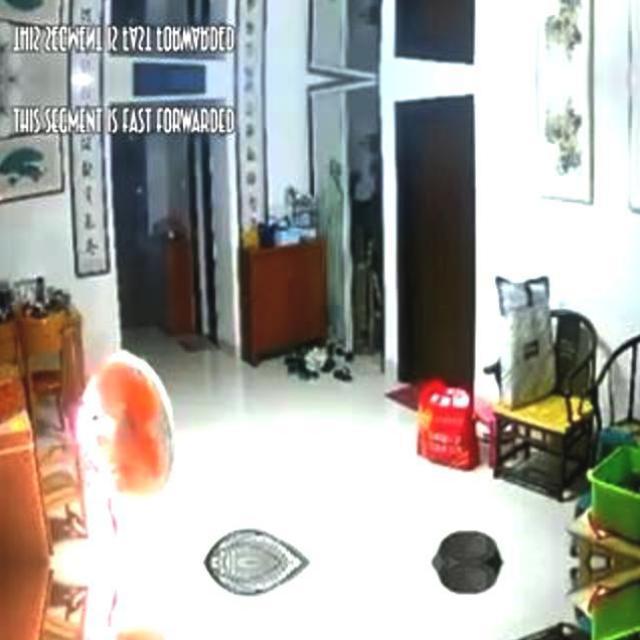smoke: (76, 371, 121, 640)
